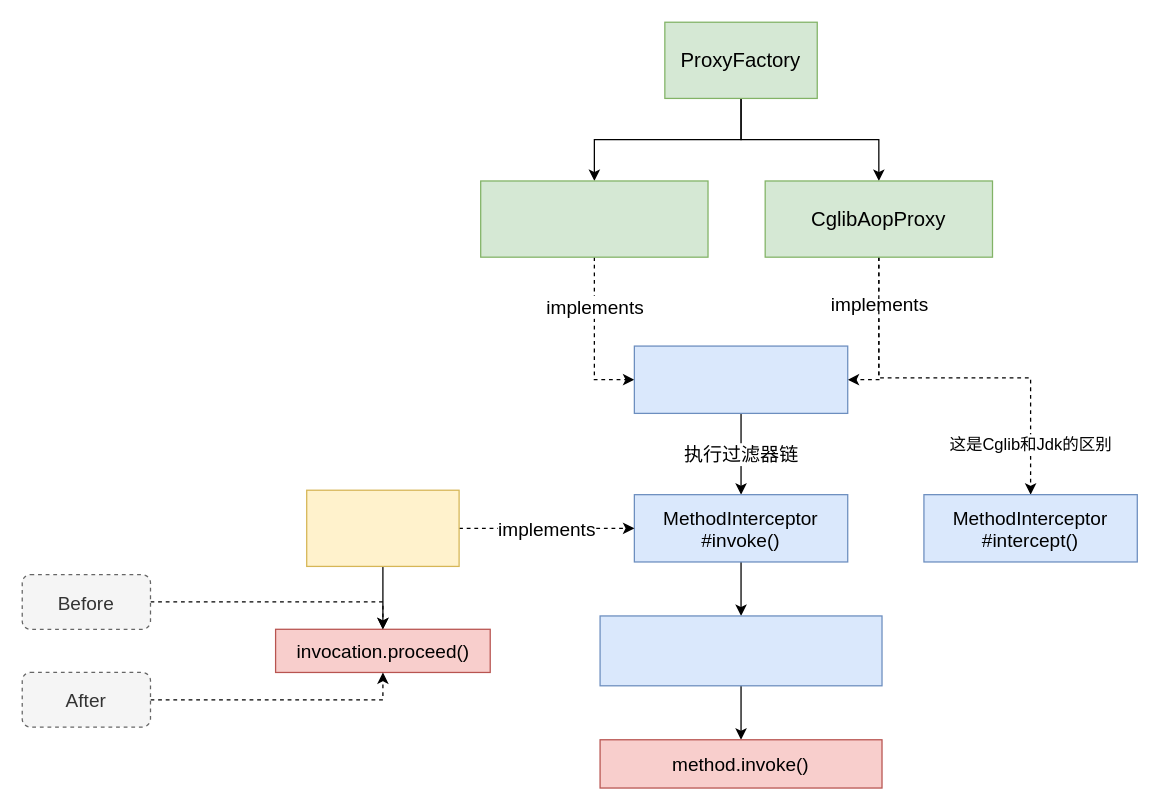
Some shapes in this 1160 by 810 pixel diagram are drawn without their labels. Here are the shapes that lost their labels. From the top down, the centre of each, then its label:
At pixel 593 218: "JdkDynamicAopProxy".
At pixel 740 379: "InvocationHandler #invoke()".
At pixel 382 527: "自定义过滤器 #invoke()".
At pixel 740 650: "执行过滤器链 methodInterceptor.invoke()".
